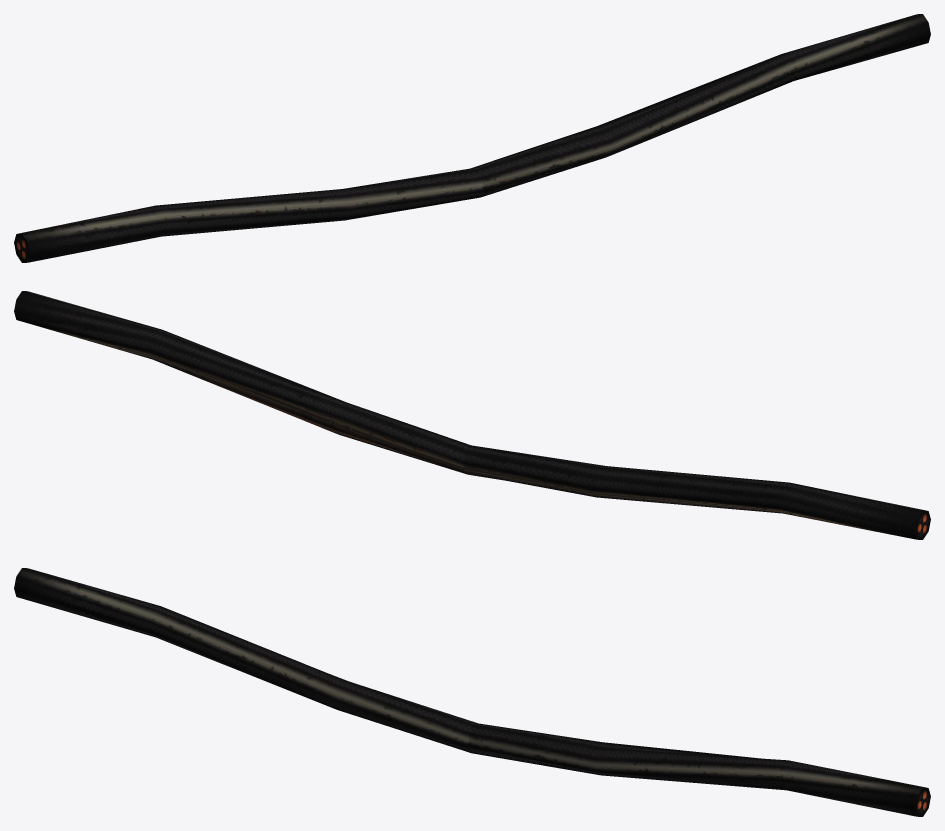
File: cables_hanging.dae
The picture shows the model from 3 angles, top to bottom: view 1: azimuth 30°, elevation 25°; view 2: azimuth 150°, elevation 25°; view 3: azimuth 330°, elevation 25°; orthographic projection.
Visible parts, largest first — view 1: polySurface851; view 2: polySurface851; view 3: polySurface851.
Boxes of the visible parts, x1,y1,x2,y2 form: polySurface851: [14, 14, 930, 262]; polySurface851: [14, 291, 930, 539]; polySurface851: [14, 568, 930, 816].
Bounding box in the file's own units: 4 × 0.3123 × 0.1267.
